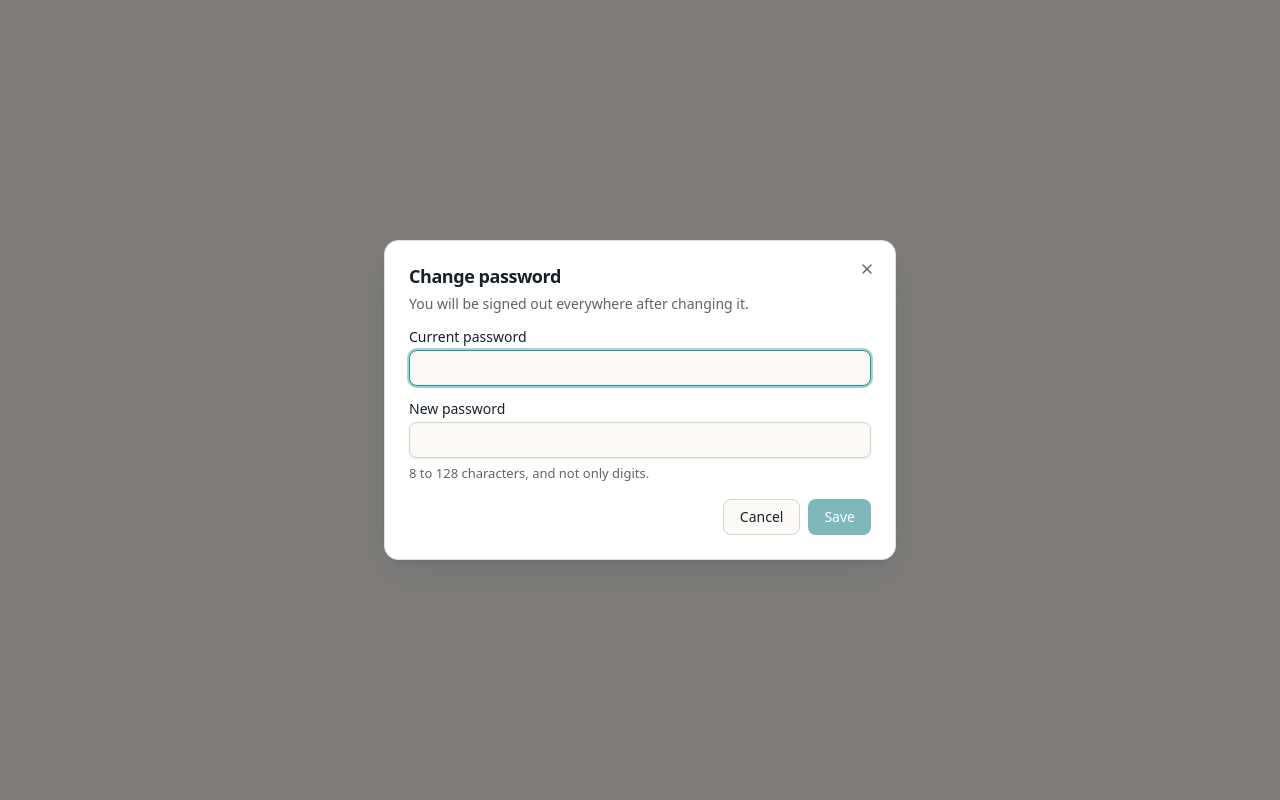
it: PasswordDialog › keeps Save off until the new password meets the policy and the current one is filled
Expected: the button "Save" is disabled, left=808, top=499, right=871, bottom=535
Type "12345678" into the password field labelled "New password" at (640, 440), box left=409, top=422, right=871, bottom=458
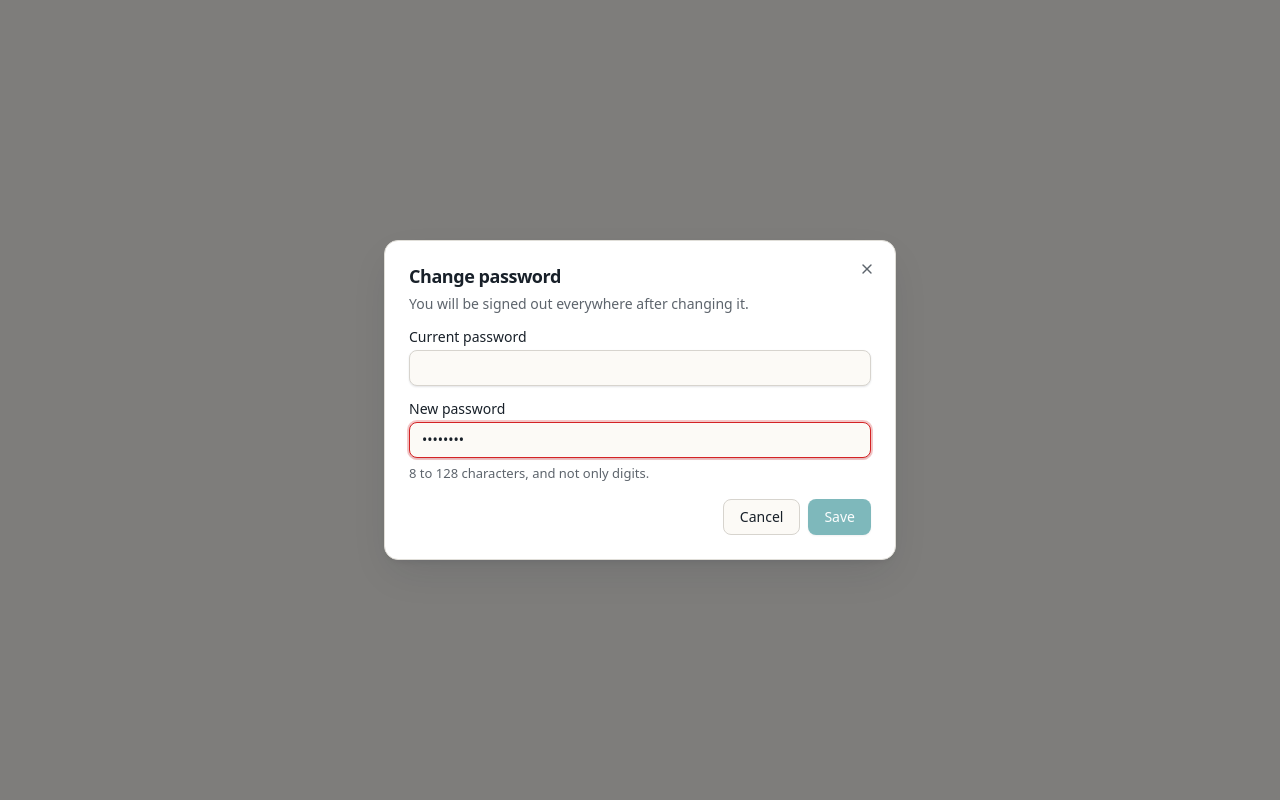
Expected: the button "Save" is disabled, left=808, top=499, right=871, bottom=535
Type "old-password" into the password field labelled "Current password" at (640, 368), box left=409, top=350, right=871, bottom=386
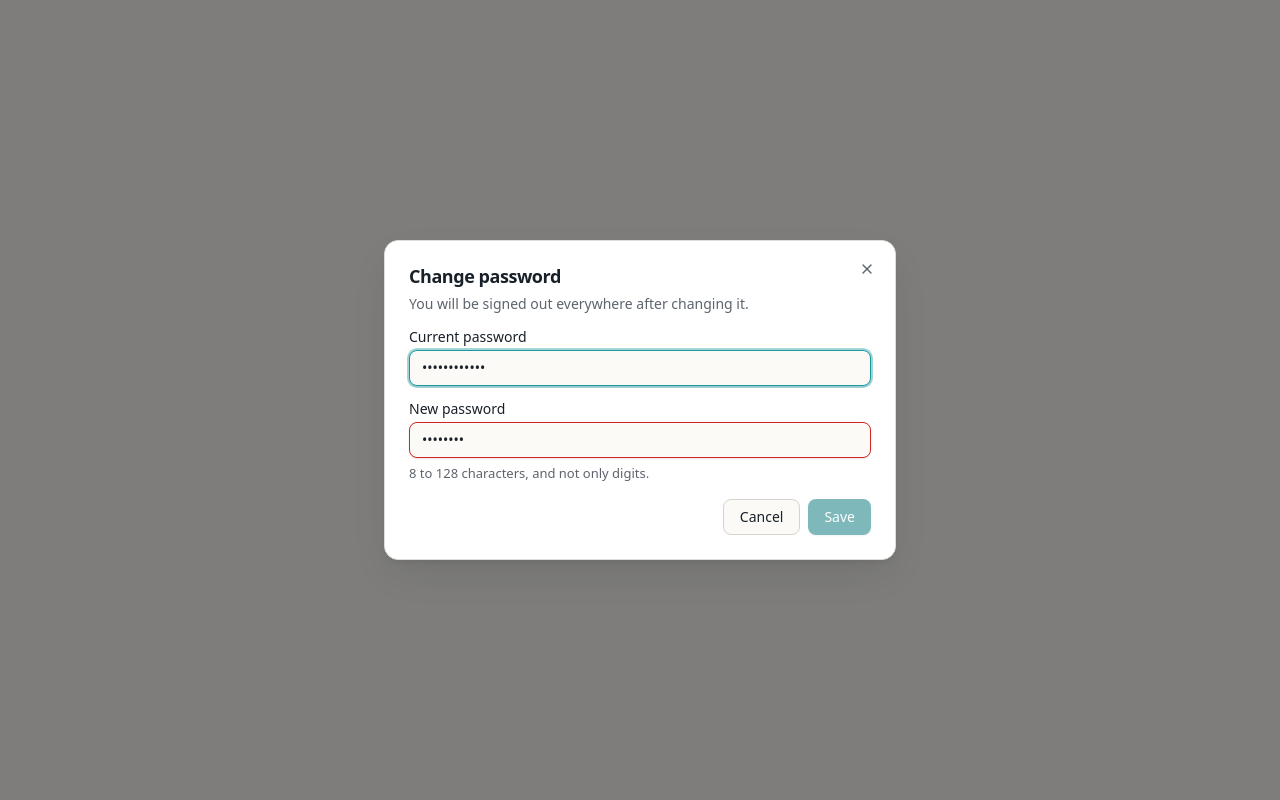
Type "better-one-1" into the password field labelled "New password" at (640, 440), box left=409, top=422, right=871, bottom=458
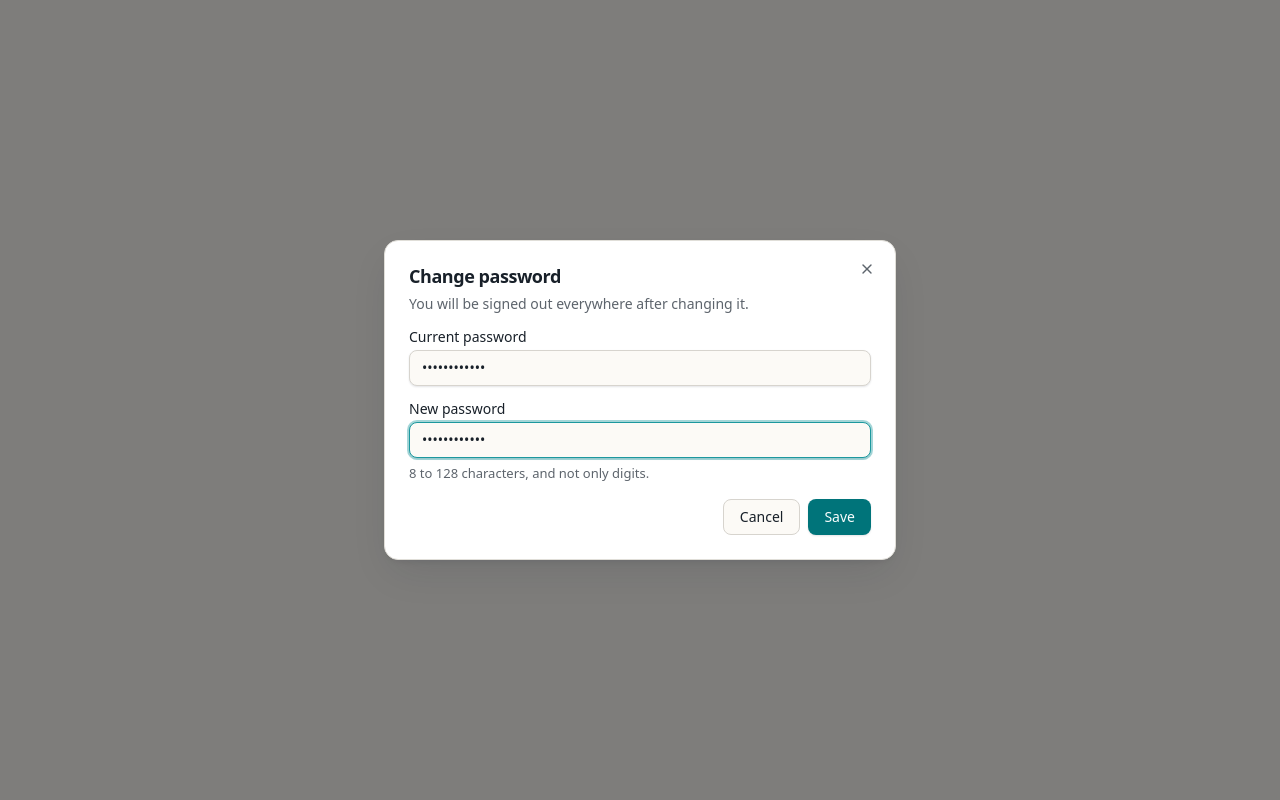
Result: the button "Save" is enabled at left=808, top=499, right=871, bottom=535
